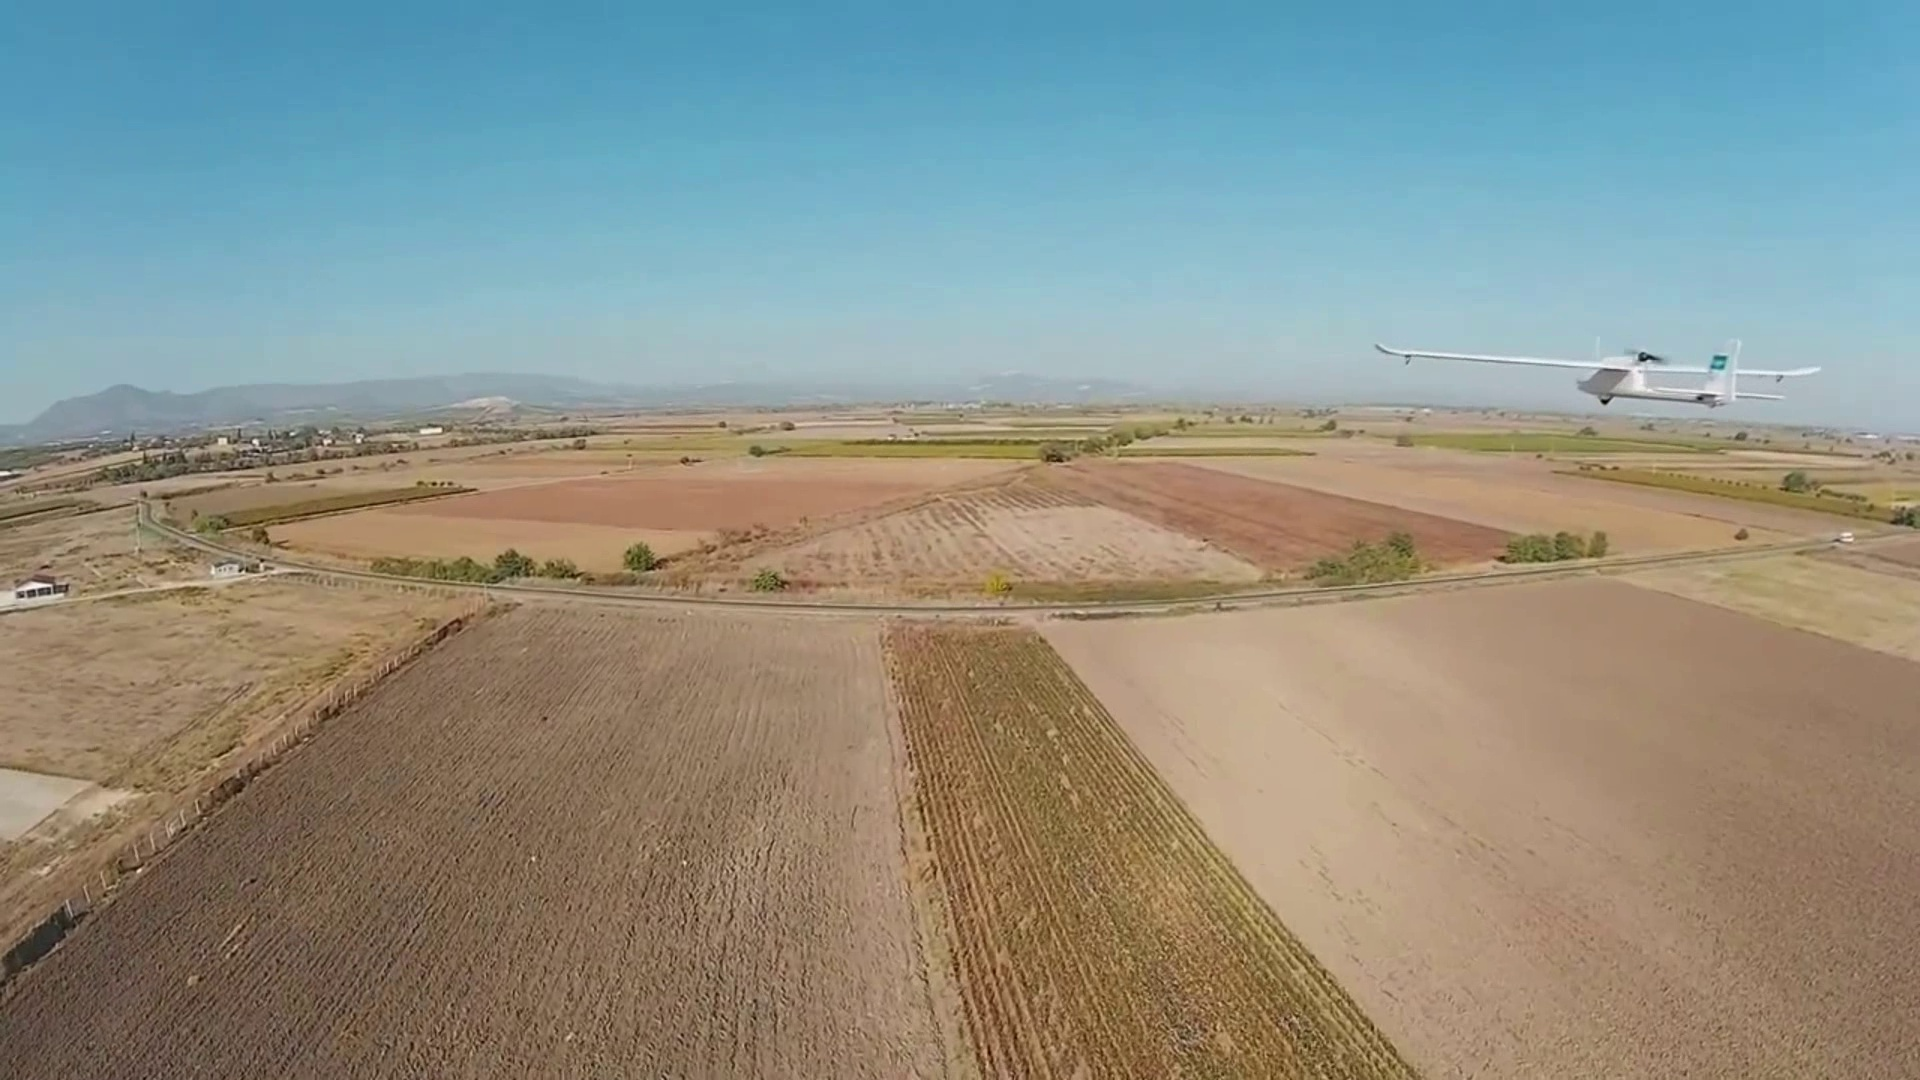airplane: (1372, 338, 1824, 415)
